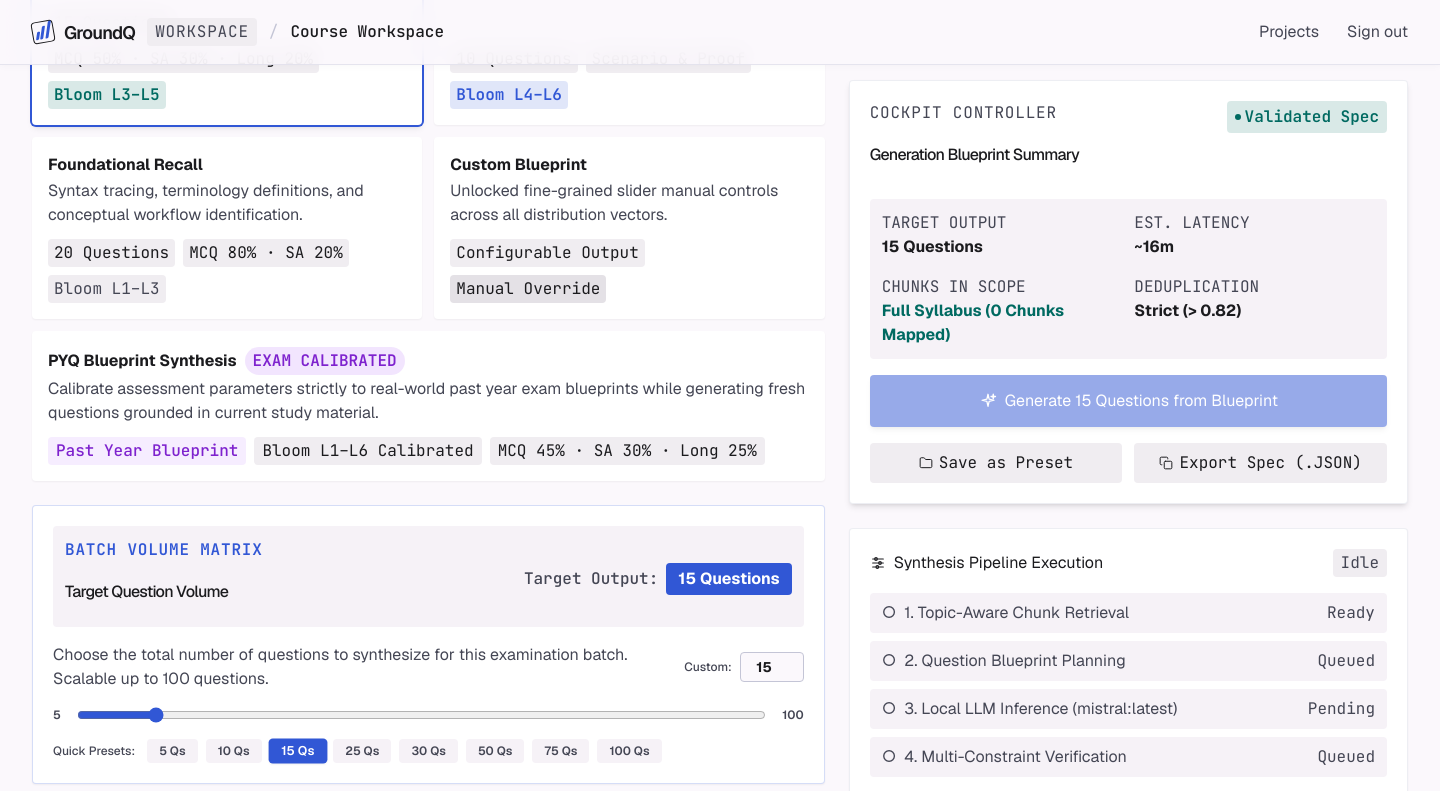
Test: ProjectGenerationPage › calibrates generation parameters when PYQ Blueprint Synthesis preset is selected
(page scrolled)
Click the button "PYQ Blueprint Synthesis" at (142, 360), box [32,331,825,481]
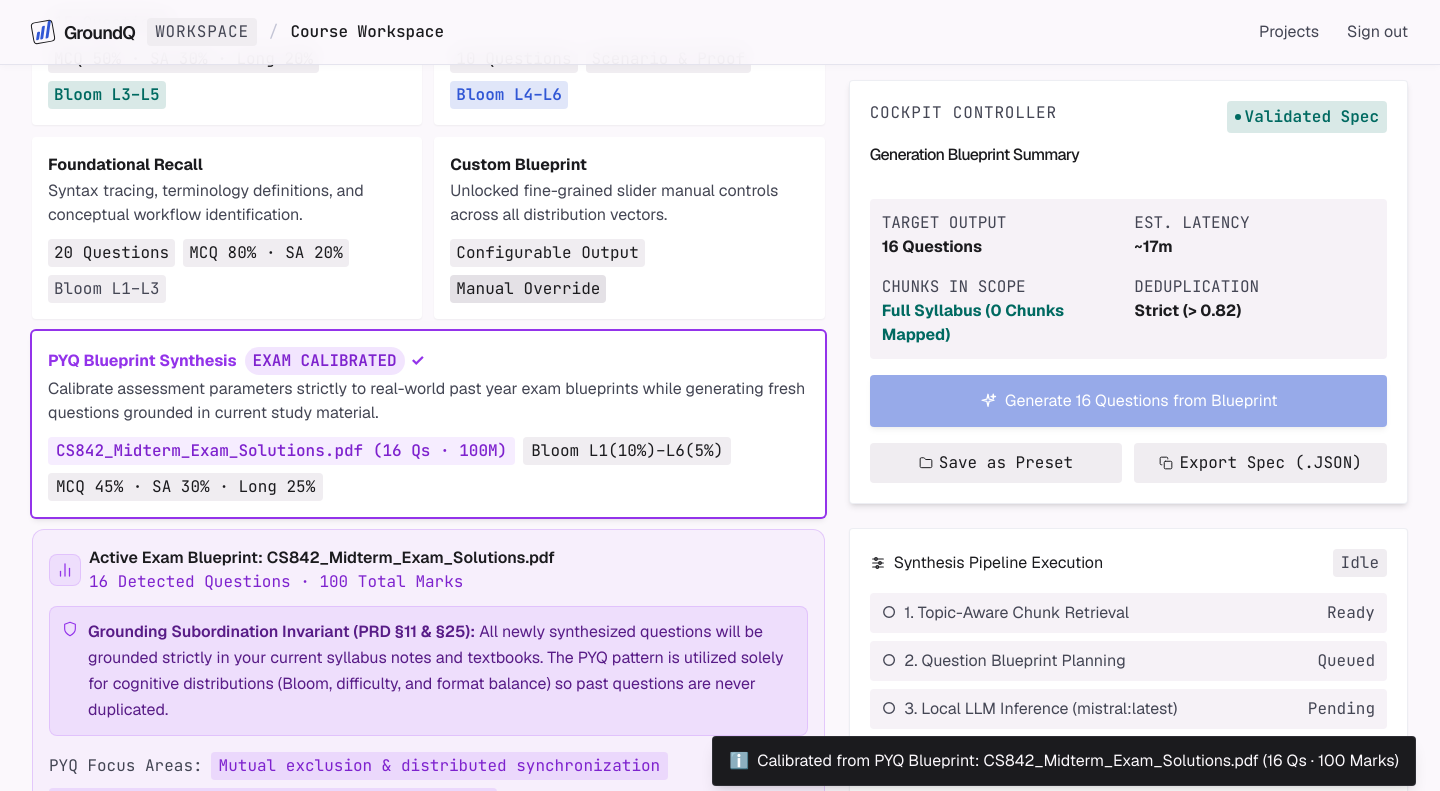
Expected: the text "Active Exam Blueprint: CS842_Midterm_Exam_Solutions.pdf" is shown, [89,546,555,570]
Expected: the text "Grounding Subordination Invariant (PRD §11 & §25):" is shown, [88,621,475,642]
Expected: the text "All newly synthesized questions will be grounded strictly in your current syllabus notes" is shown, [88,621,784,720]
